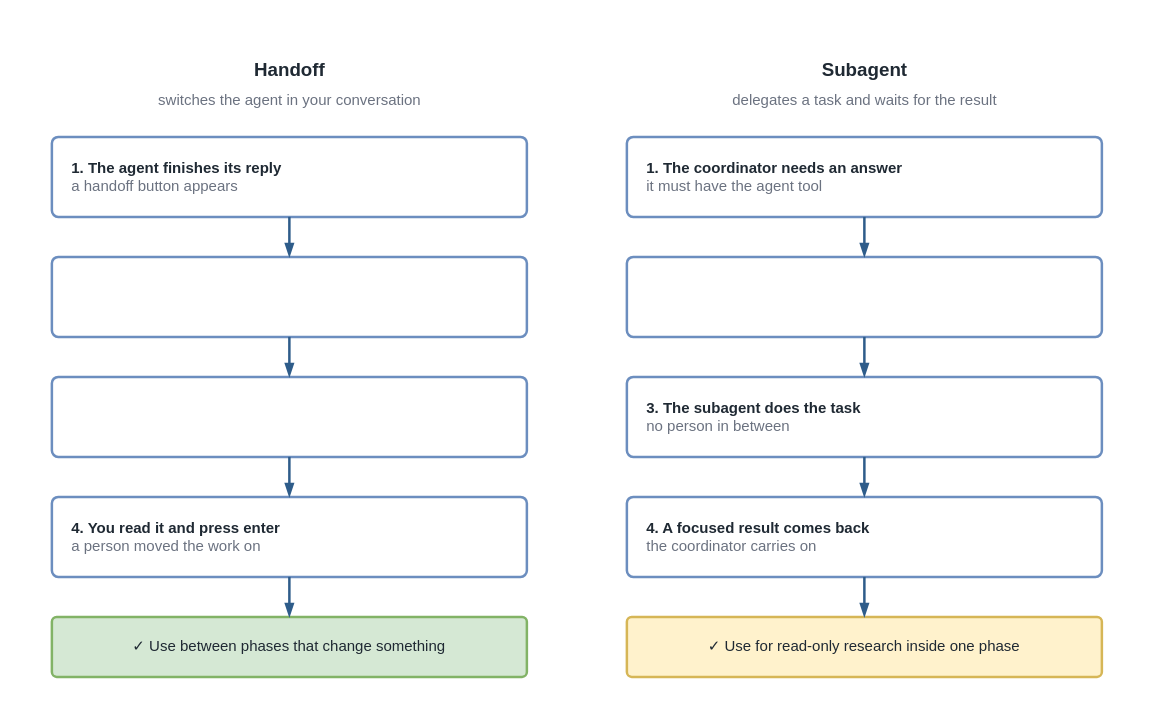
This 1153x728 diagram has some shape labels left out. The centre of each missing label's shape, as x and y in pixels:
"2. It starts a subagent with its own separate context" goes at (x=863, y=296).
"2. You click the button the next agent opens, history intact" goes at (x=289, y=296).
"3. A pre-filled prompt waits send: false, so nothing has run yet" goes at (x=289, y=416).
